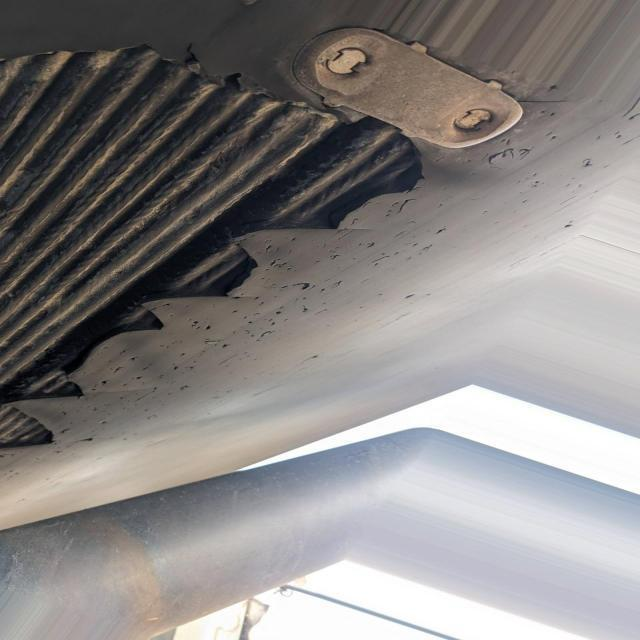Tear: (0, 42, 439, 464)
